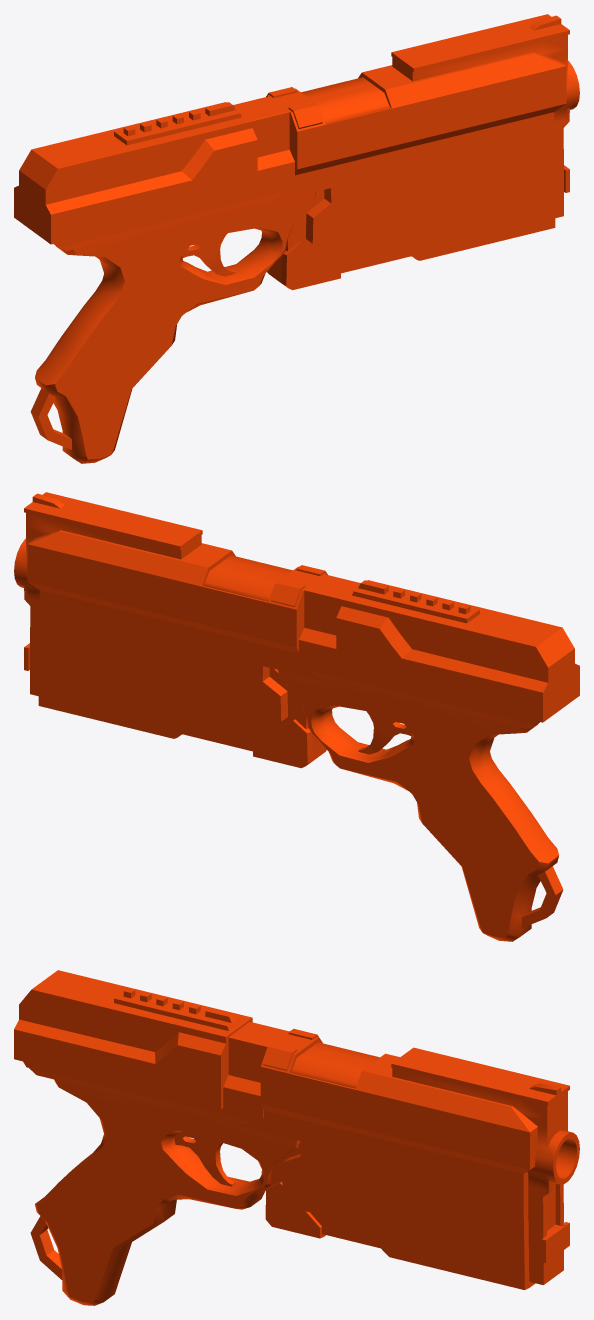
Rendered from NERFgun_low.FBX.
3 views of the same model, one above another, from view 1: azimuth 30°, elevation 25°; view 2: azimuth 150°, elevation 25°; view 3: azimuth 330°, elevation 25° (orthographic).
Visible parts, largest first — view 1: corps, manche, viseur, trigger, poignee; view 2: corps, manche, viseur, trigger, poignee; view 3: corps, manche, viseur, trigger, poignee.
Boxes of the visible parts, bbox=[...] form: corps: bbox=[14, 52, 566, 290]; manche: bbox=[35, 191, 316, 463]; viseur: bbox=[301, 14, 579, 218]; trigger: bbox=[182, 233, 235, 276]; poignee: bbox=[30, 388, 71, 449]; corps: bbox=[27, 530, 579, 768]; manche: bbox=[277, 669, 559, 941]; viseur: bbox=[14, 492, 292, 696]; trigger: bbox=[358, 711, 411, 754]; poignee: bbox=[522, 866, 563, 927]; corps: bbox=[14, 970, 537, 1289]; manche: bbox=[35, 1079, 300, 1305]; viseur: bbox=[290, 1042, 579, 1284]; trigger: bbox=[174, 1131, 235, 1186]; poignee: bbox=[30, 1216, 62, 1279].
Bounding box in the file's own units: 10.87 × 6.36 × 1.3.
